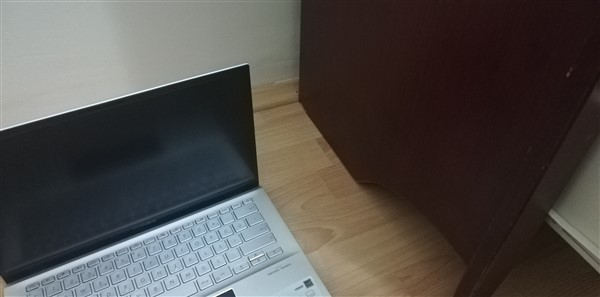laptop: (1, 62, 347, 296)
